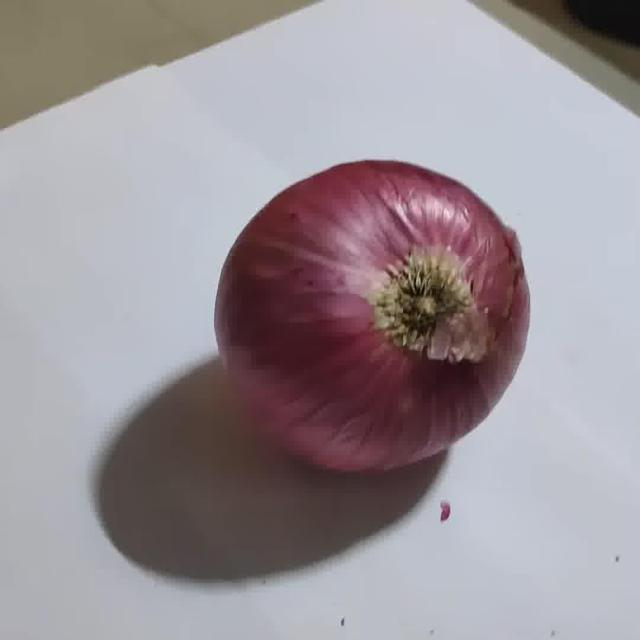Onion: (215, 161, 529, 472)
